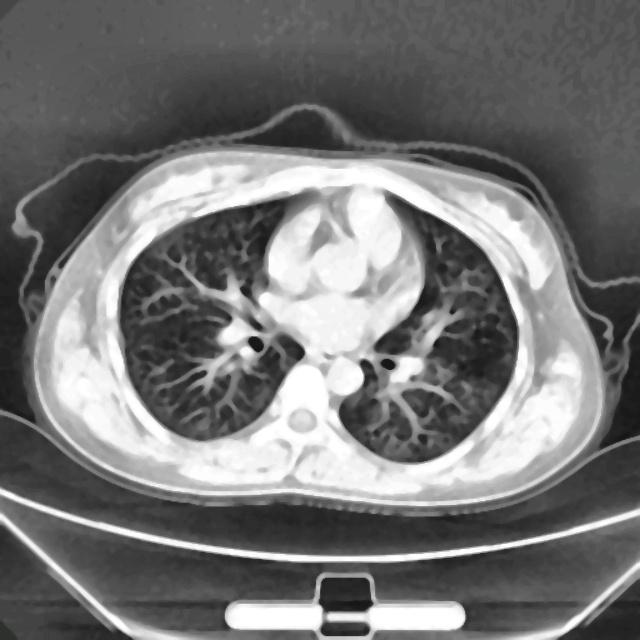covid: (24, 135, 614, 515)
